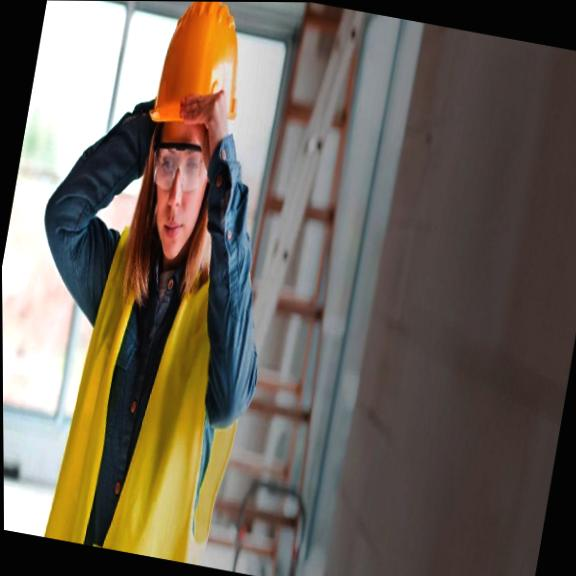no_safety_vest: (43, 231, 243, 557)
